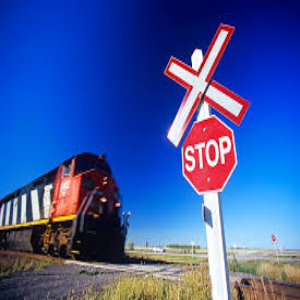STOP_SIGN: (181, 114, 238, 194)
